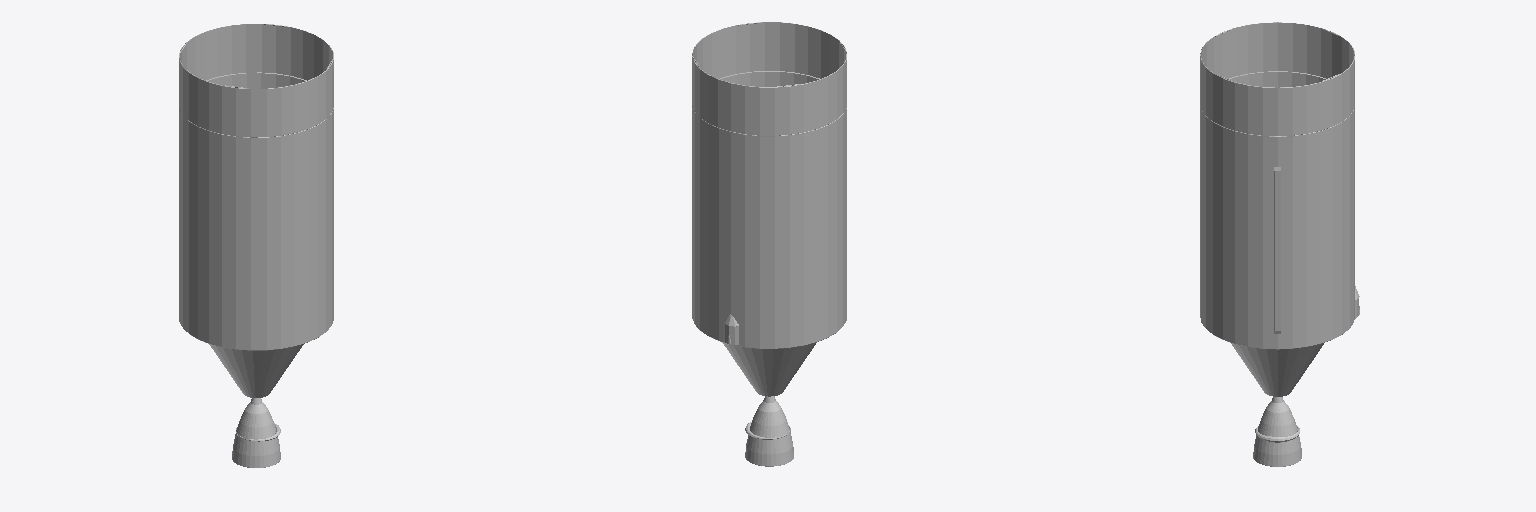
File: Saturn V_5.obj
The picture shows the model from 3 angles: view 1: azimuth 30°, elevation 25°; view 2: azimuth 150°, elevation 25°; view 3: azimuth 270°, elevation 25°; orthographic projection.
Parts seen in each view (by area): view 1: Saturn_V_Third_Stage_Cylinder.004, LEM_Fairing_Bottom_Cylinder.017, J-2_Engine_-_Second_Stage.005_Cylinder.020; view 2: Saturn_V_Third_Stage_Cylinder.004, LEM_Fairing_Bottom_Cylinder.017, J-2_Engine_-_Second_Stage.005_Cylinder.020; view 3: Saturn_V_Third_Stage_Cylinder.004, LEM_Fairing_Bottom_Cylinder.017, J-2_Engine_-_Second_Stage.005_Cylinder.020, Cube_Cube.012.
Boxes of the visible parts, box(x1,y1,x2,y2) form: Saturn_V_Third_Stage_Cylinder.004: box(179, 72, 333, 397); LEM_Fairing_Bottom_Cylinder.017: box(179, 24, 333, 137); J-2_Engine_-_Second_Stage.005_Cylinder.020: box(232, 398, 280, 467); Saturn_V_Third_Stage_Cylinder.004: box(692, 71, 846, 396); LEM_Fairing_Bottom_Cylinder.017: box(692, 22, 846, 135); J-2_Engine_-_Second_Stage.005_Cylinder.020: box(745, 396, 793, 466); Saturn_V_Third_Stage_Cylinder.004: box(1200, 71, 1354, 396); LEM_Fairing_Bottom_Cylinder.017: box(1200, 22, 1354, 135); J-2_Engine_-_Second_Stage.005_Cylinder.020: box(1253, 397, 1301, 466); Cube_Cube.012: box(1274, 167, 1280, 333).
Size of the model in its own units: 6.66 by 18.83 by 6.79.